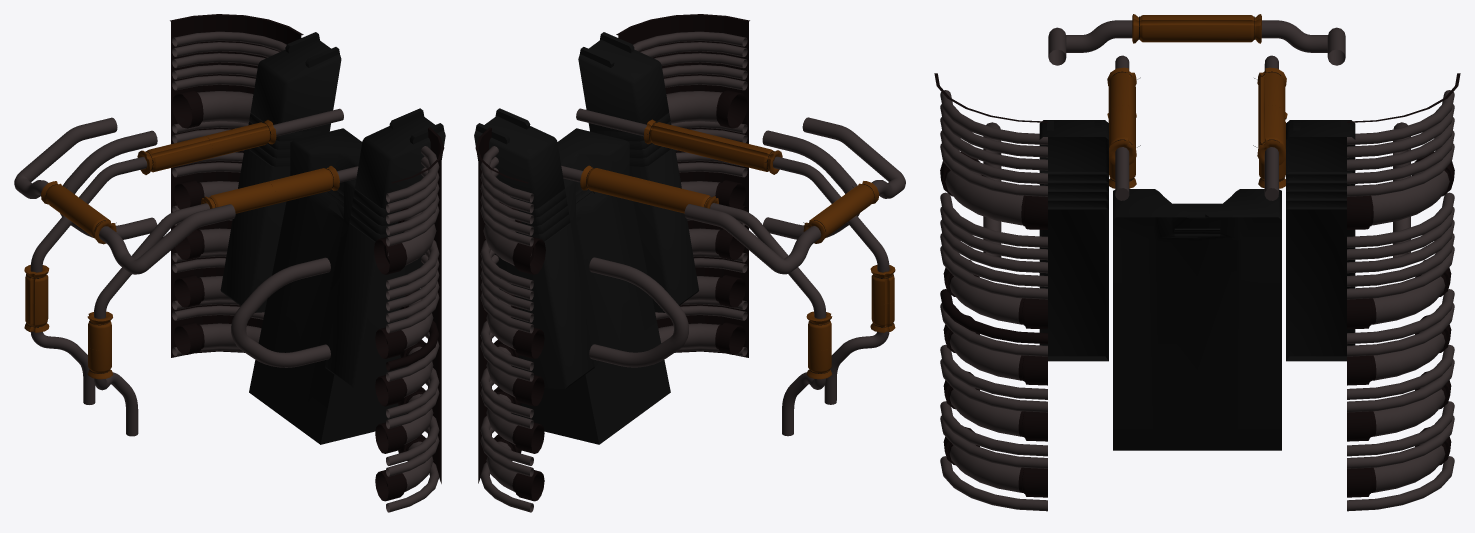
File: bars.FBX
The picture shows the model from 3 angles, left to right: view 1: azimuth 30°, elevation 25°; view 2: azimuth 150°, elevation 25°; view 3: azimuth 270°, elevation 25°; orthographic projection. The views are drawn at different scales.
Parts seen in each view (by area): view 1: Box007; view 2: Box007; view 3: Box007.
Part boxes in pixels (x1,y1,x2,y2): Box007: [14, 14, 445, 512]; Box007: [474, 14, 905, 512]; Box007: [934, 14, 1460, 511].
Bounding box in the file's own units: 614 × 610 × 732.
